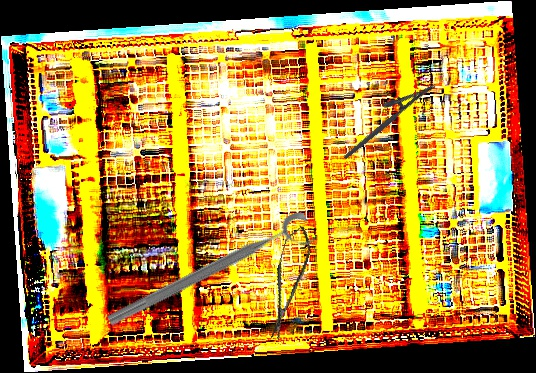Fixation Ring: (103, 209, 319, 343)
Micro Scissor: (258, 223, 317, 342)
Needle Holder: (333, 70, 437, 161)
